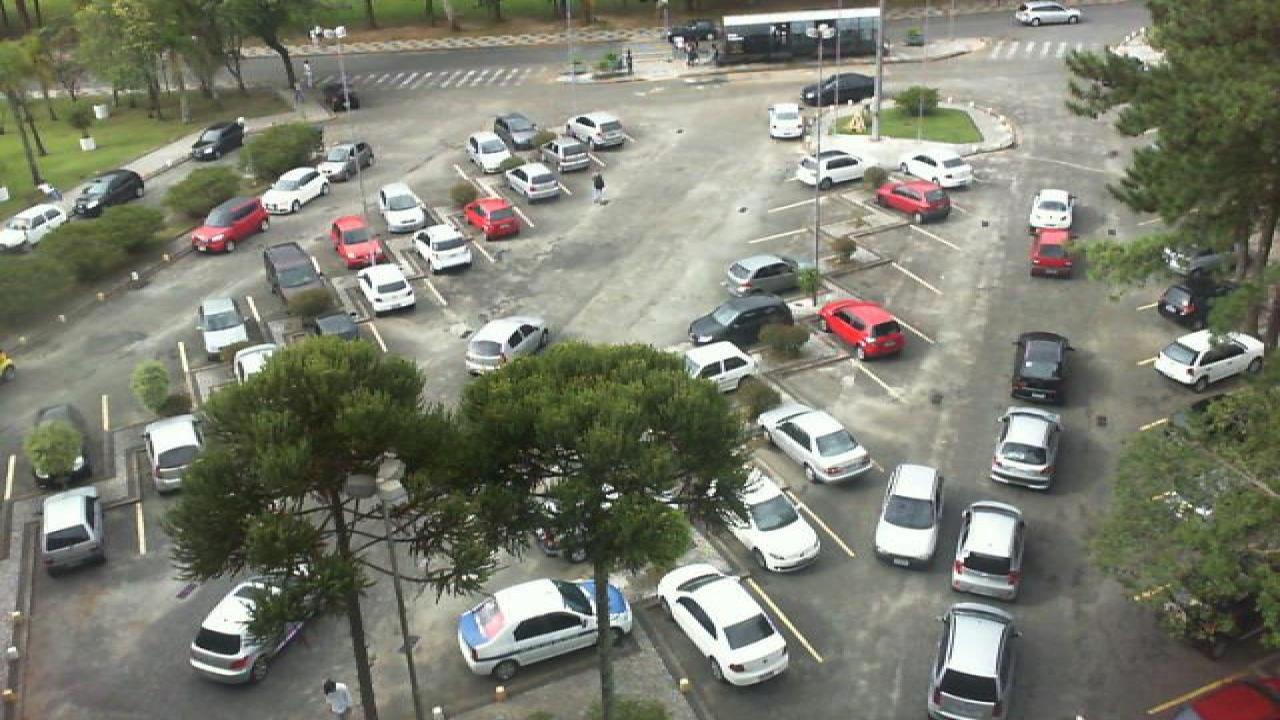Car: (452, 577, 634, 682), (652, 560, 796, 688), (184, 577, 312, 685), (710, 464, 820, 574), (926, 602, 1026, 720), (756, 399, 874, 485), (948, 498, 1030, 602), (870, 462, 942, 570), (1152, 328, 1268, 393), (14, 402, 90, 490), (38, 485, 110, 574), (990, 405, 1062, 489), (686, 295, 794, 349), (138, 413, 208, 495), (818, 297, 906, 360), (464, 314, 552, 377), (1156, 264, 1238, 326), (258, 241, 332, 308), (1010, 330, 1072, 404), (682, 340, 764, 395), (190, 196, 268, 253), (720, 253, 814, 297), (66, 170, 146, 218), (258, 166, 334, 215), (876, 176, 952, 222), (354, 262, 418, 315), (196, 297, 256, 353), (782, 149, 866, 189), (410, 224, 474, 274), (0, 202, 68, 248), (328, 216, 384, 269), (798, 73, 880, 108), (374, 181, 428, 232), (896, 155, 974, 190), (462, 198, 526, 240), (312, 141, 376, 181), (184, 119, 246, 160), (1030, 228, 1078, 278), (506, 162, 564, 201), (230, 342, 282, 385), (564, 110, 626, 146), (462, 132, 514, 174), (494, 110, 544, 153), (1028, 188, 1076, 229), (540, 135, 592, 171), (764, 102, 806, 142), (314, 313, 362, 343)
